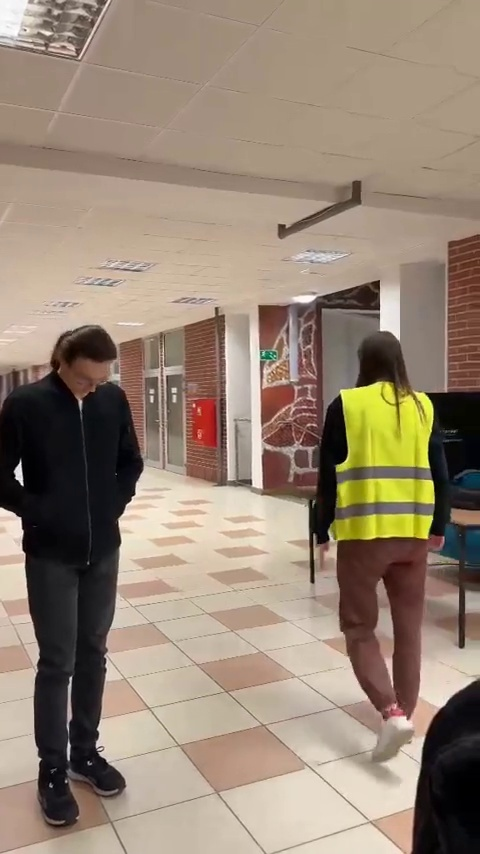no vest: (0, 323, 145, 825)
vest: (295, 329, 450, 761)
